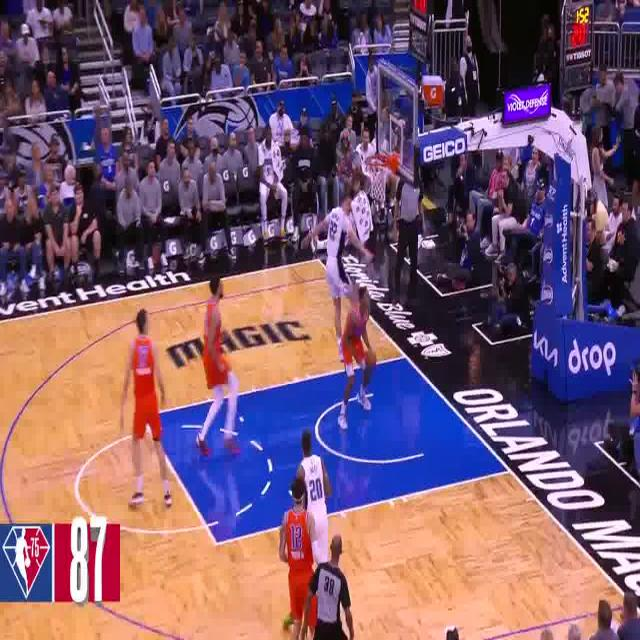ball-handler: (337, 278, 375, 432)
